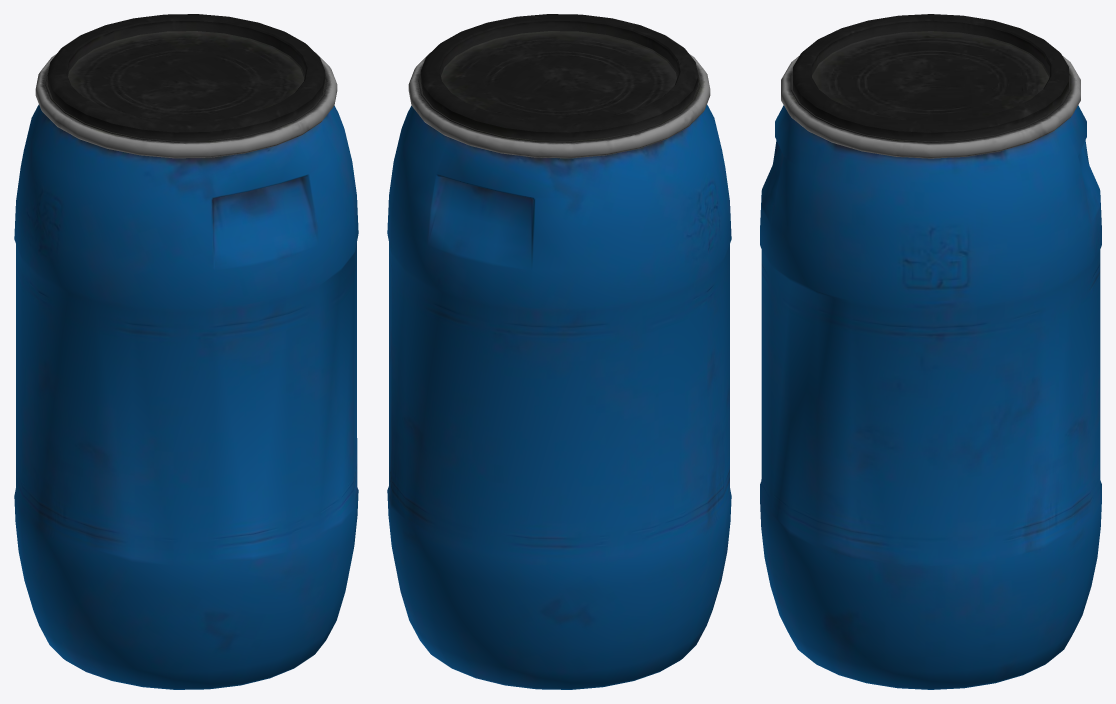
File: Barrel_02.glb
The picture shows the model from 3 angles, left to right: view 1: azimuth 30°, elevation 25°; view 2: azimuth 150°, elevation 25°; view 3: azimuth 270°, elevation 25°; orthographic projection.
Parts seen in each view (by area): view 1: Barrel_02; view 2: Barrel_02; view 3: Barrel_02.
Boxes of the visible parts, left/top/right/bottom form: Barrel_02: left=14, top=14, right=358, bottom=689; Barrel_02: left=387, top=14, right=731, bottom=689; Barrel_02: left=760, top=14, right=1101, bottom=689.
Size of the model in its own units: 0.4882 by 0.88 by 0.4846.
Materials: 1 (1 with a texture image).
